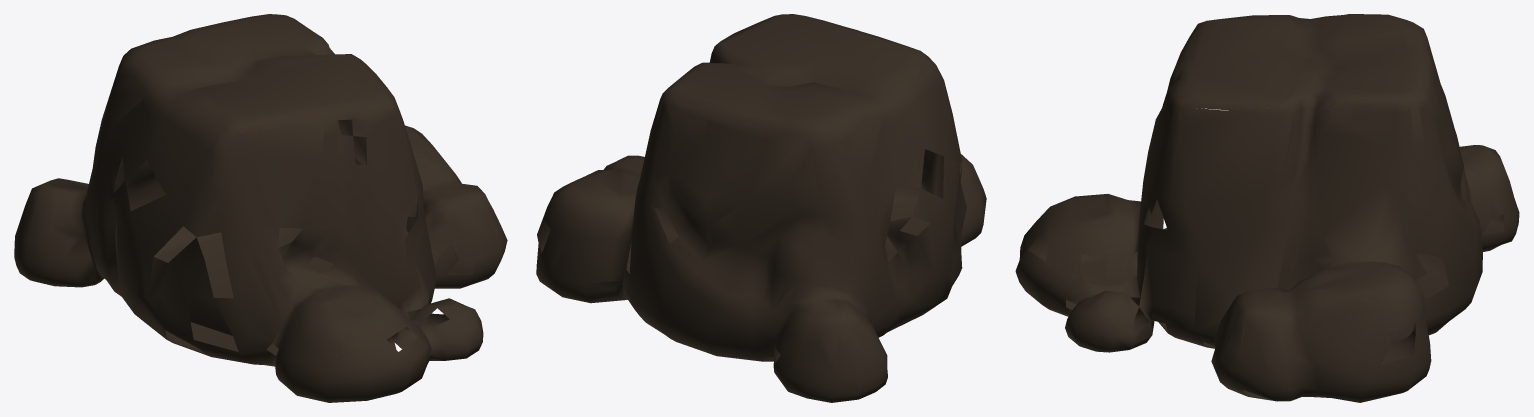
File: pila_de_rocas_chica_2.glb
3 views of the same model, side by side, from view 1: azimuth 30°, elevation 25°; view 2: azimuth 150°, elevation 25°; view 3: azimuth 270°, elevation 25° (orthographic). The views are drawn at different scales.
Parts seen in each view (by area): view 1: pila_de_rocas_chica_2; view 2: pila_de_rocas_chica_2; view 3: pila_de_rocas_chica_2.
Boxes of the visible parts, box(x1,y1,x2,y2) form: pila_de_rocas_chica_2: box(14, 14, 507, 402); pila_de_rocas_chica_2: box(536, 14, 986, 402); pila_de_rocas_chica_2: box(1015, 14, 1519, 402).
Size of what is drawn, in the model's own units: 0.5011 by 0.2895 by 0.55.
1 material, 1 textured.
